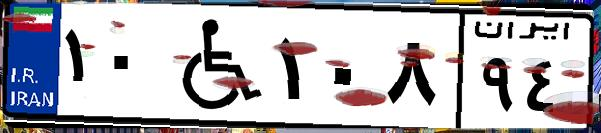0: (330, 28, 385, 110), (110, 28, 158, 98)
1: (270, 28, 330, 110), (57, 26, 110, 100)
4: (525, 38, 570, 115)
8: (385, 28, 445, 110)
9: (475, 38, 525, 113)
ژ (معلولین و جانبازان): (158, 12, 270, 120)
